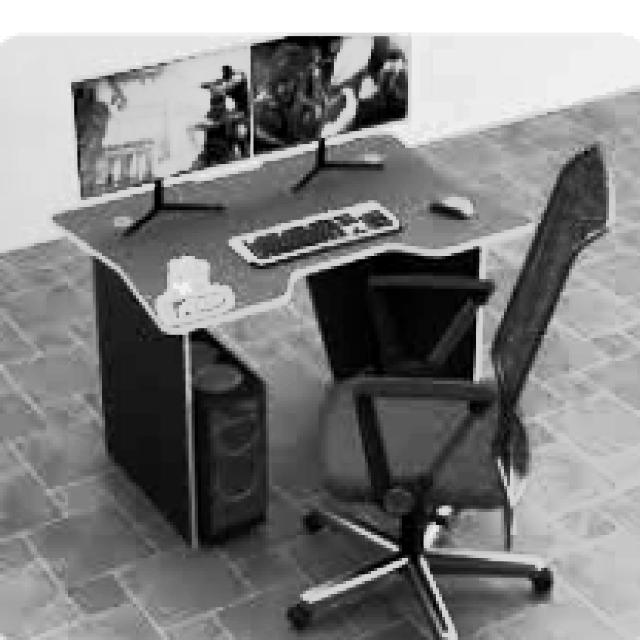book: (285, 141, 609, 637)
table: (46, 128, 535, 548)
